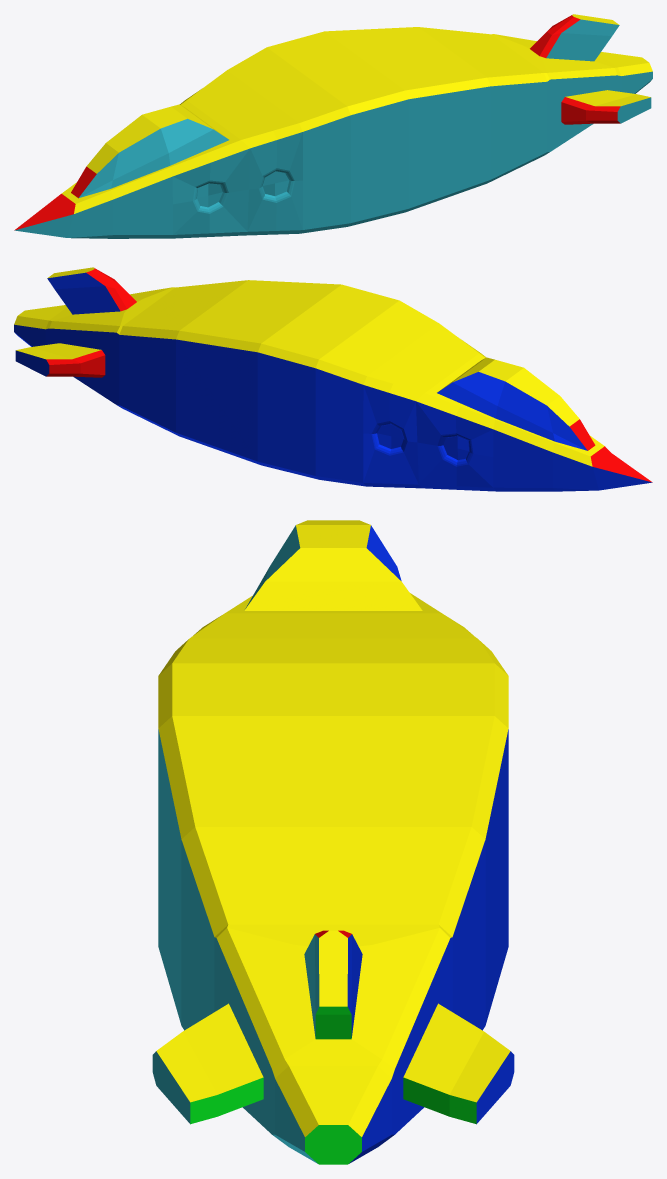
The model's file is flight.FBX.
3 views of the same model, one above another, from view 1: azimuth 30°, elevation 25°; view 2: azimuth 150°, elevation 25°; view 3: azimuth 270°, elevation 25° (orthographic). The views are drawn at different scales.
Visible parts, largest first — view 1: Box001; view 2: Box001; view 3: Box001.
Part boxes in pixels (x1,y1,x2,y2): Box001: (14, 14, 652, 238); Box001: (14, 267, 652, 491); Box001: (152, 520, 514, 1164).
Bounding box in the file's own units: 304 × 56.2 × 75.42.
